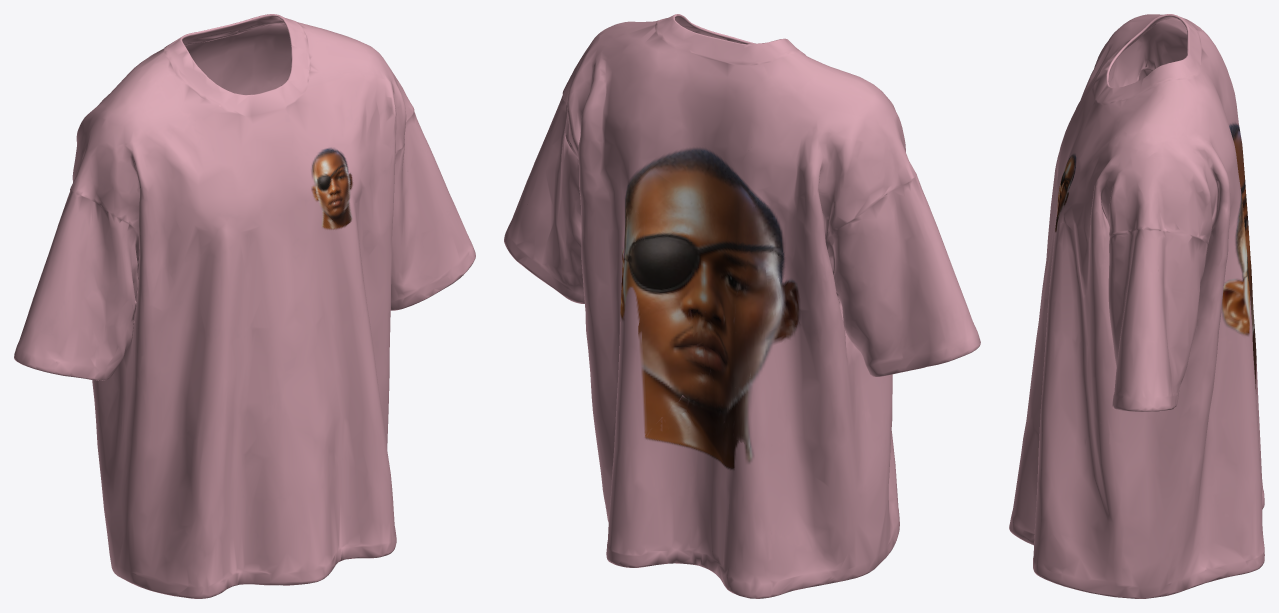
Rendered from tshirt-mockup.glb.
3 views of the same model, side by side, from view 1: azimuth 30°, elevation 25°; view 2: azimuth 150°, elevation 25°; view 3: azimuth 270°, elevation 25° (orthographic). The views are drawn at different scales.
Parts seen in each view (by area): view 1: mockup; view 2: mockup; view 3: mockup.
Boxes of the visible parts, left/top/right/bottom form: mockup: left=14, top=14, right=475, bottom=598; mockup: left=504, top=14, right=980, bottom=598; mockup: left=1009, top=14, right=1264, bottom=598.
Size of the model in its own units: 0.9395 by 1 by 0.4617.
Materials: 1 (1 with a texture image).
